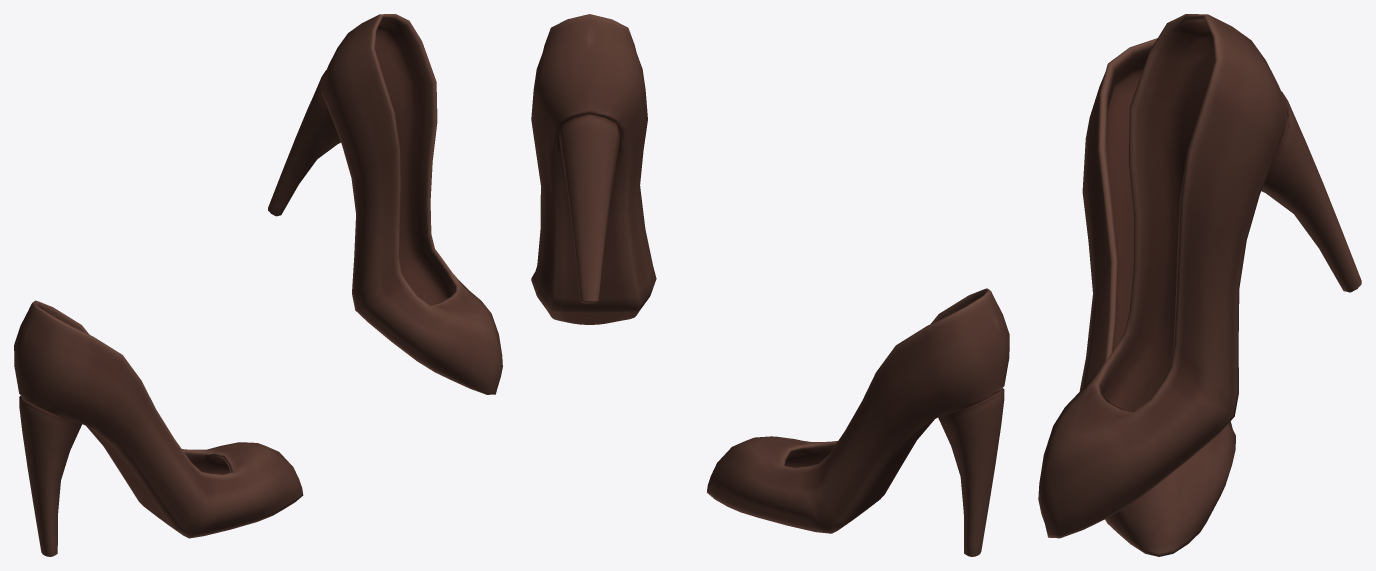
File: BellyE.fbx
3 views of the same model, side by side, from view 1: azimuth 30°, elevation 25°; view 2: azimuth 150°, elevation 25°; view 3: azimuth 270°, elevation 25° (orthographic). The views are drawn at different scales.
Visible parts, largest first — view 1: BellyE; view 2: BellyE; view 3: BellyE.
Boxes of the visible parts, x1=… form: BellyE: x1=14, y1=14, x2=502, y2=556; BellyE: x1=531, y1=14, x2=1009, y2=556; BellyE: x1=1038, y1=14, x2=1361, y2=556.
Bounding box in the file's own units: 42.24 × 39.27 × 18.89.
